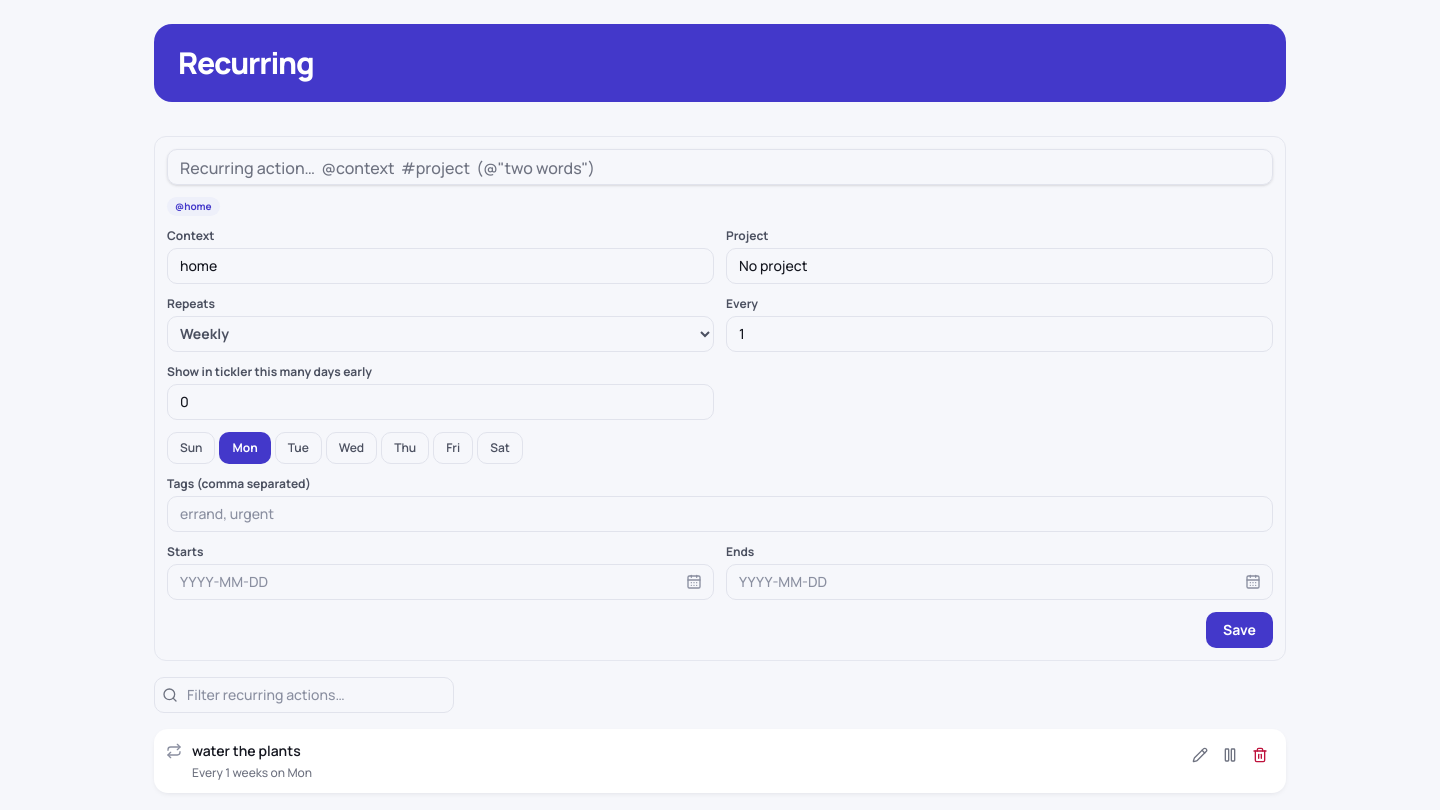
where the editor opens › expands inside the card on a desktop
This screenshot has width=1440, height=810.
expect the text "water the plants" is shown: met, box [192, 741, 301, 760]
Click the button named "Edit this recurrence".
click(1200, 755)  # box [1186, 741, 1214, 769]
(page scrolled)
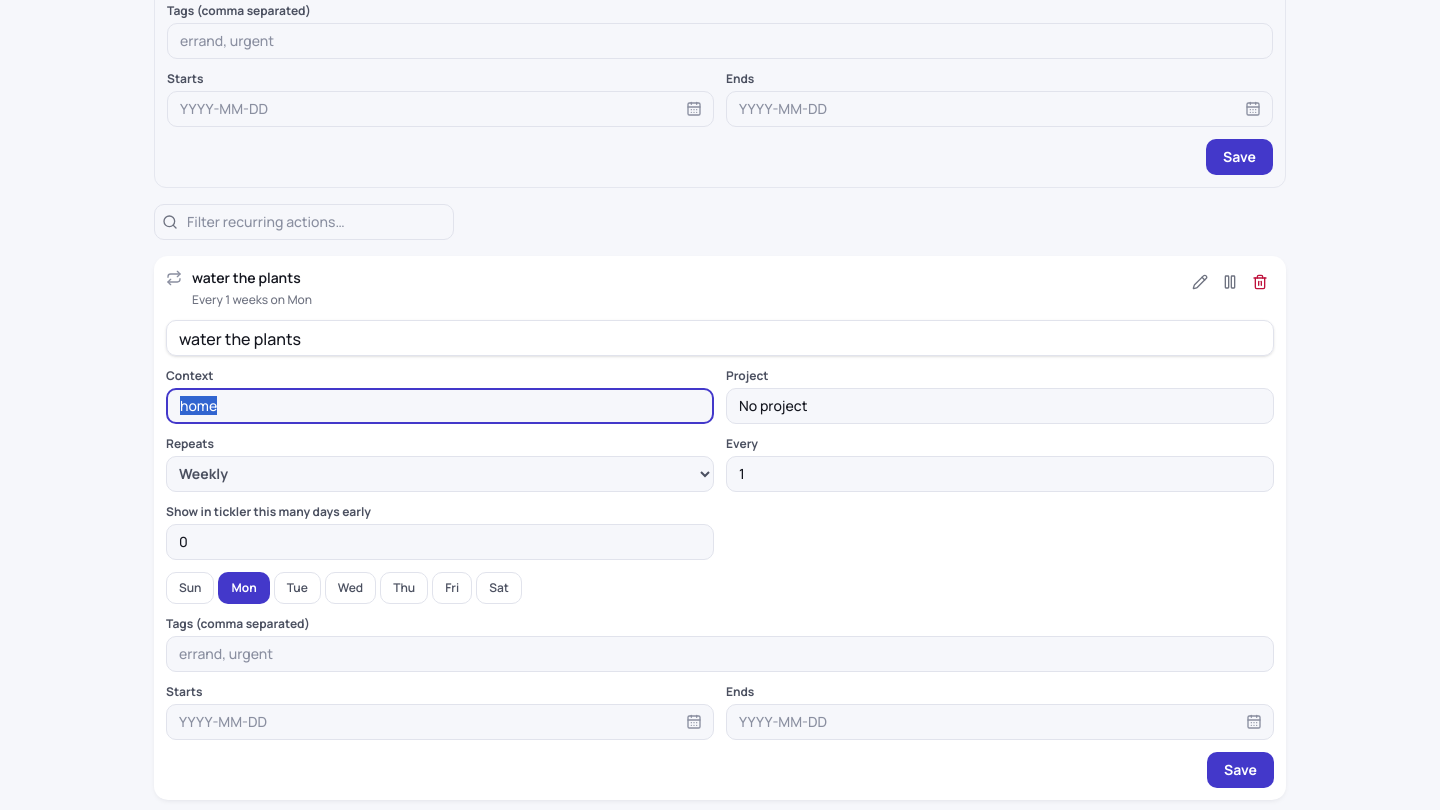
expect the number of fields labelled "Context" is 2: met
